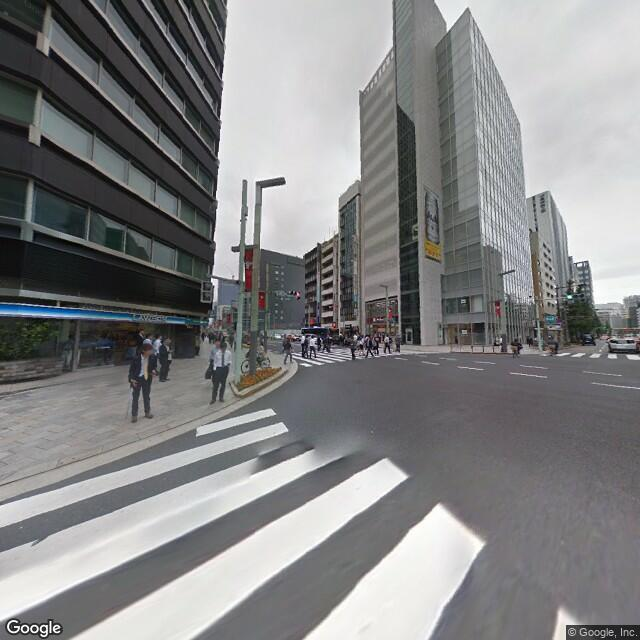lawson: (1, 298, 188, 331)
